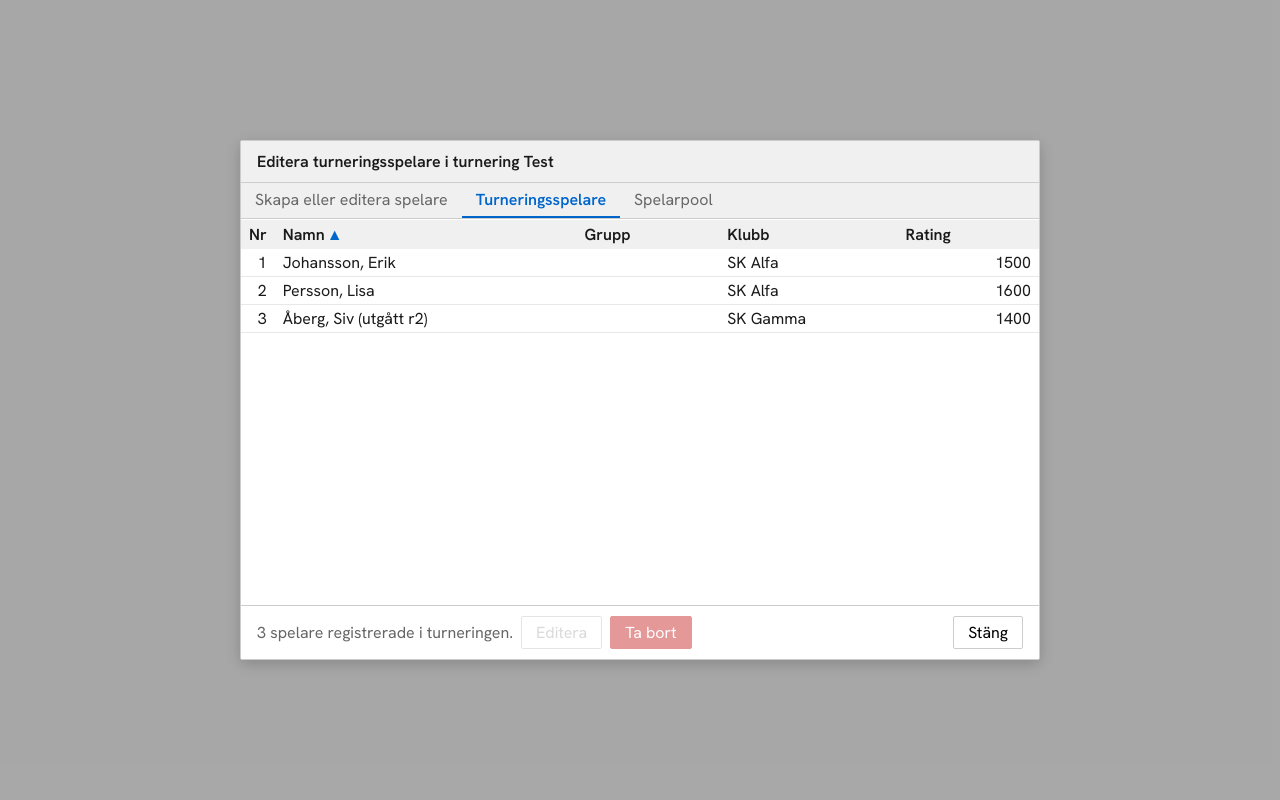
Test: TournamentPlayersDialog pool tab › shows add-to-tournament button with descriptive label
The width and height of the screenshot is (1280, 800).
Click the button "Spelarpool".
click(673, 200)  # box [620,183,727,218]
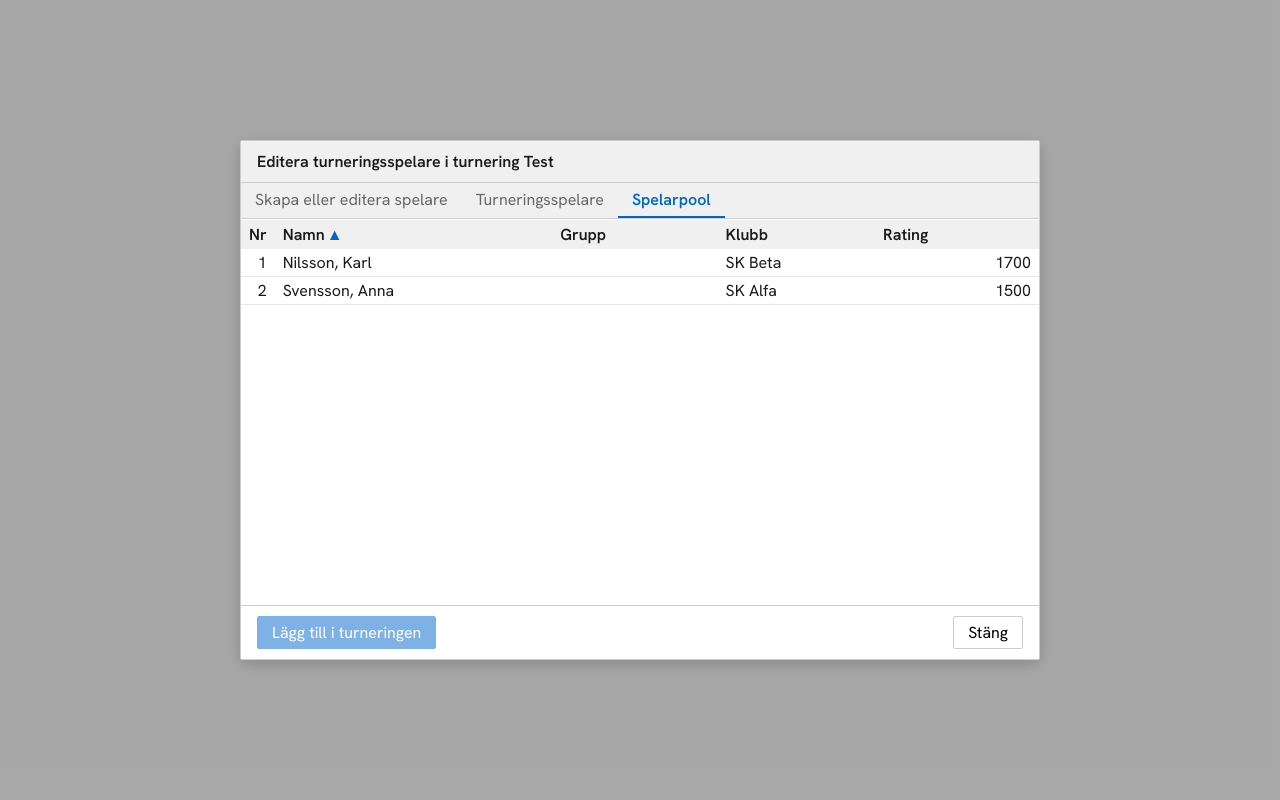
Result: the button with test id "add-from-pool" reads "Lägg till i turneringen" at [257,616,436,649]
